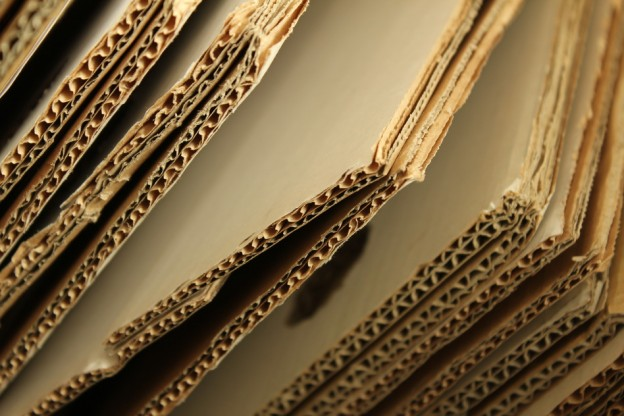Rec_Paper: (3, 2, 617, 411)
